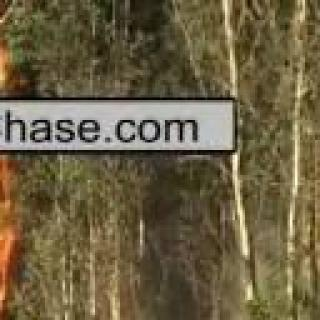fire: (0, 159, 14, 320), (0, 0, 3, 98)
